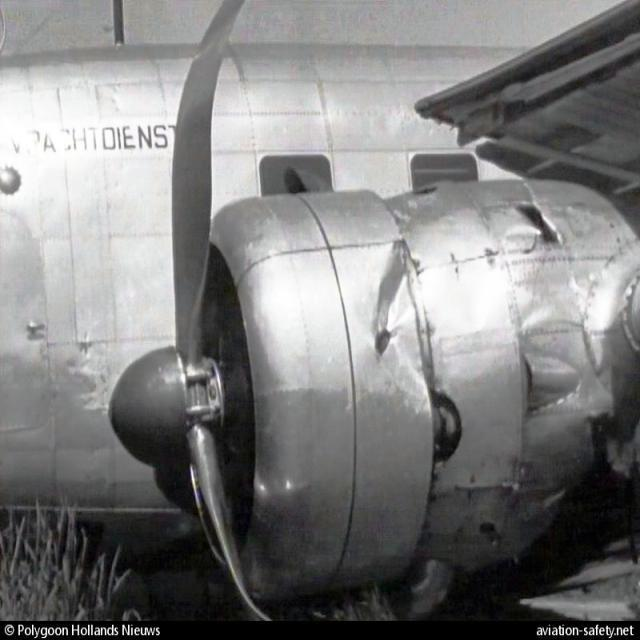dent: (364, 262, 419, 357)
